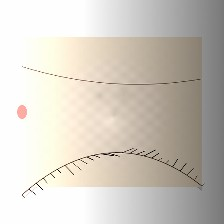hemorrhage_spot: (66, 73, 143, 135)
